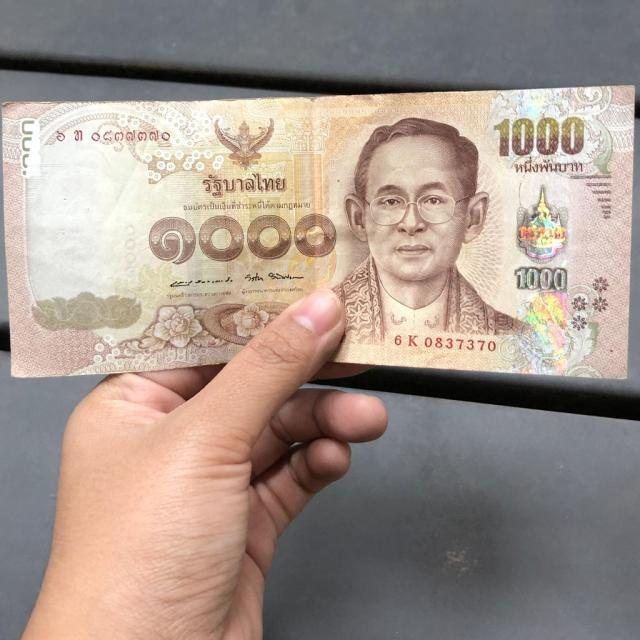THAI1000: (4, 86, 633, 379)
